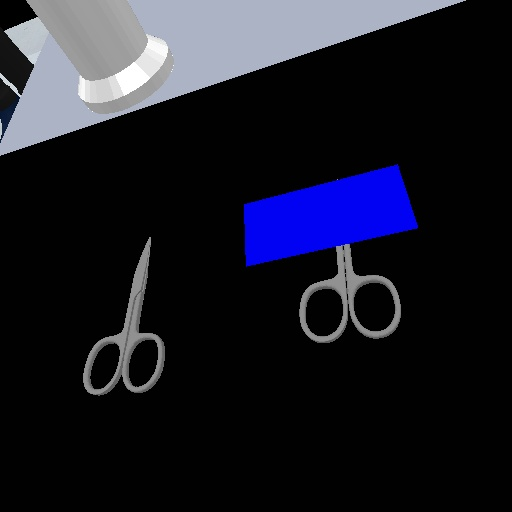tijera: (78, 232, 171, 400), (296, 241, 405, 346)
